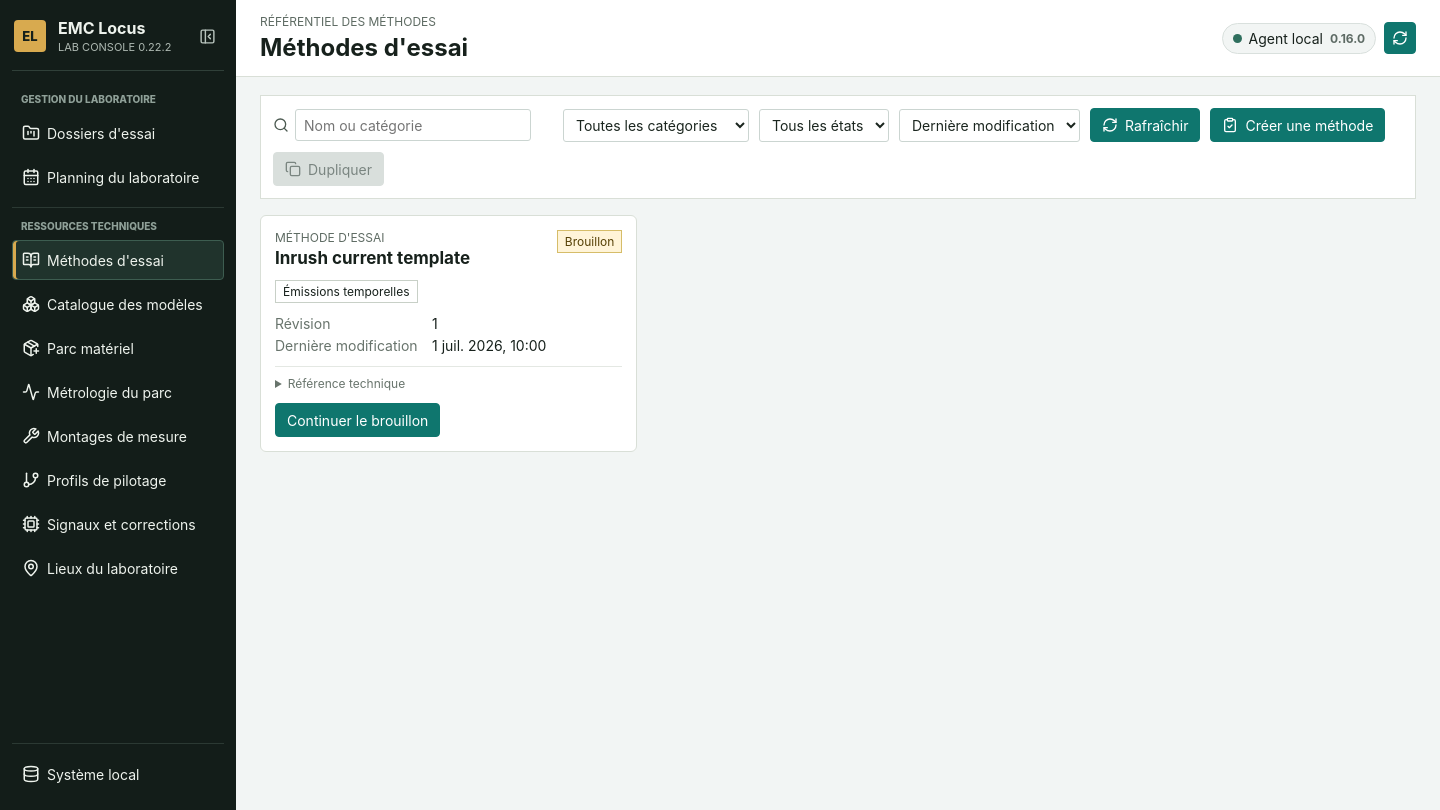
Scenario: LAB CONSOLE › explains a blocking historical location reservation with booking details
Click the button "Planning du laboratoire".
click(118, 177)  # box top-left (12, 157), bottom-right (224, 197)
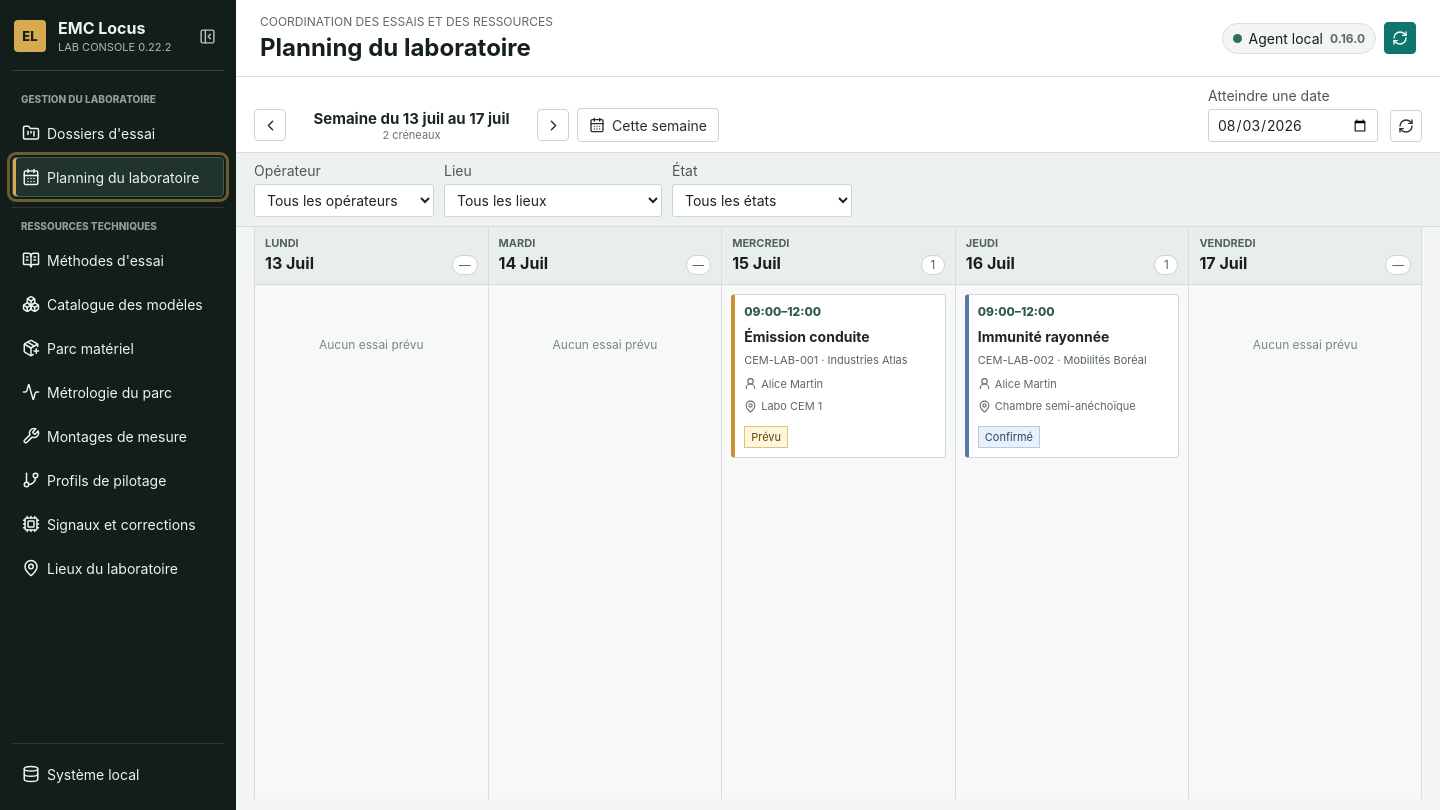
Click the button with aria-label "Ouvrir Émission conduite, dossier CEM-LAB-001".
click(838, 376)  # box top-left (731, 294), bottom-right (946, 458)
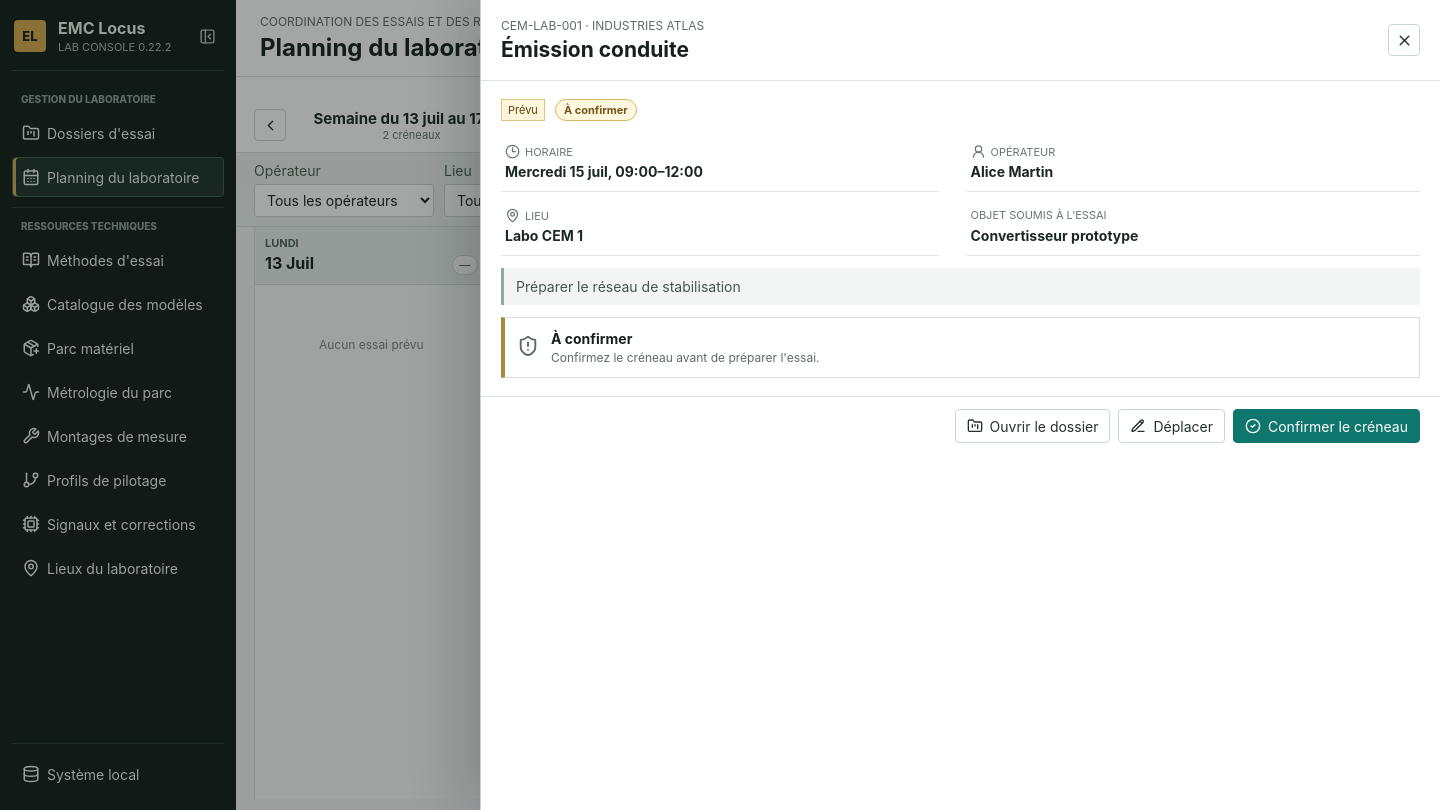
Click the button "Déplacer".
click(1172, 426)  # box top-left (1118, 409), bottom-right (1225, 443)
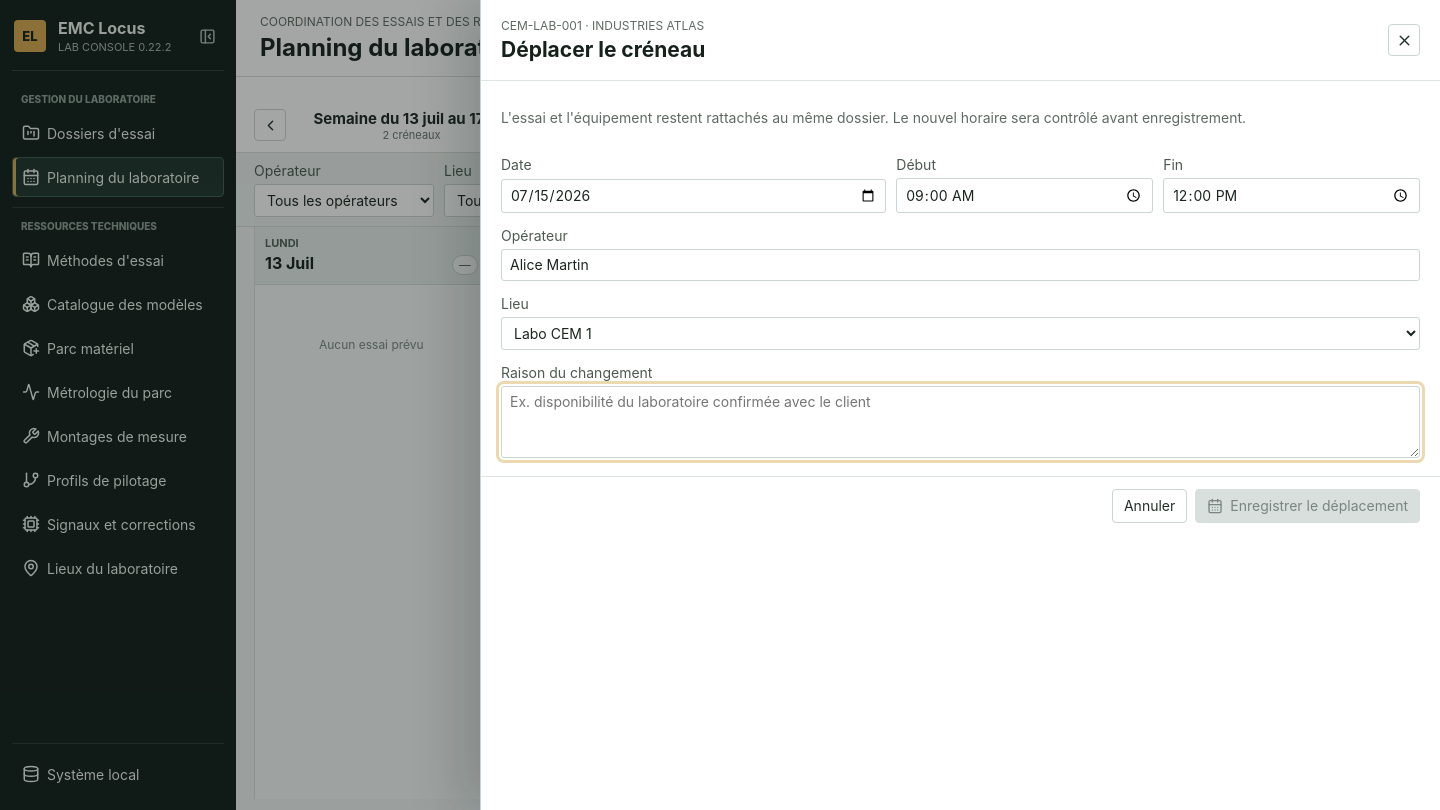
Type "Déplacement demandé" into the text box labelled "Raison du changement".
click(960, 422); type("Déplacement demandé")  # box top-left (501, 386), bottom-right (1420, 458)
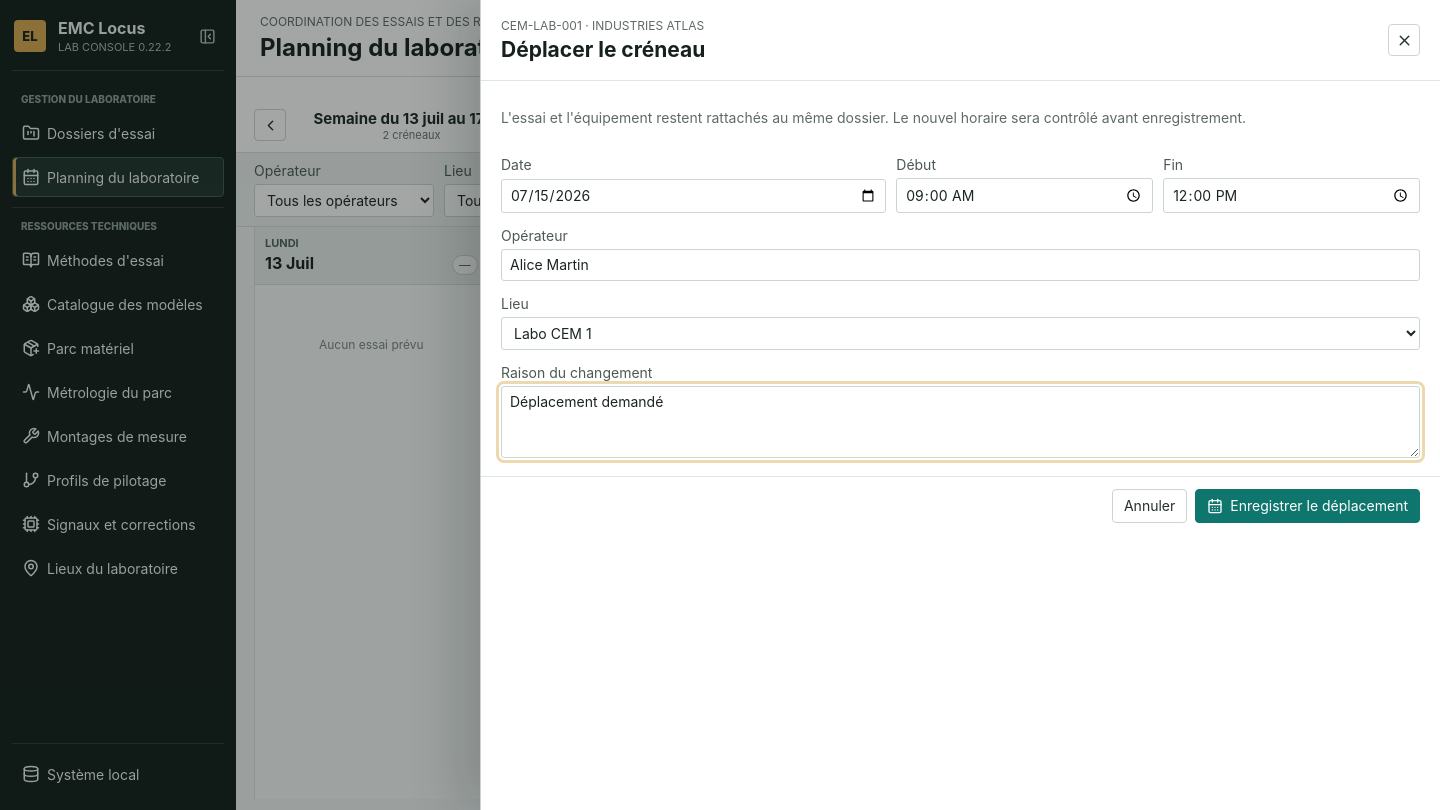
Click the button "Enregistrer le déplacement".
click(1308, 506)  # box top-left (1195, 489), bottom-right (1420, 523)
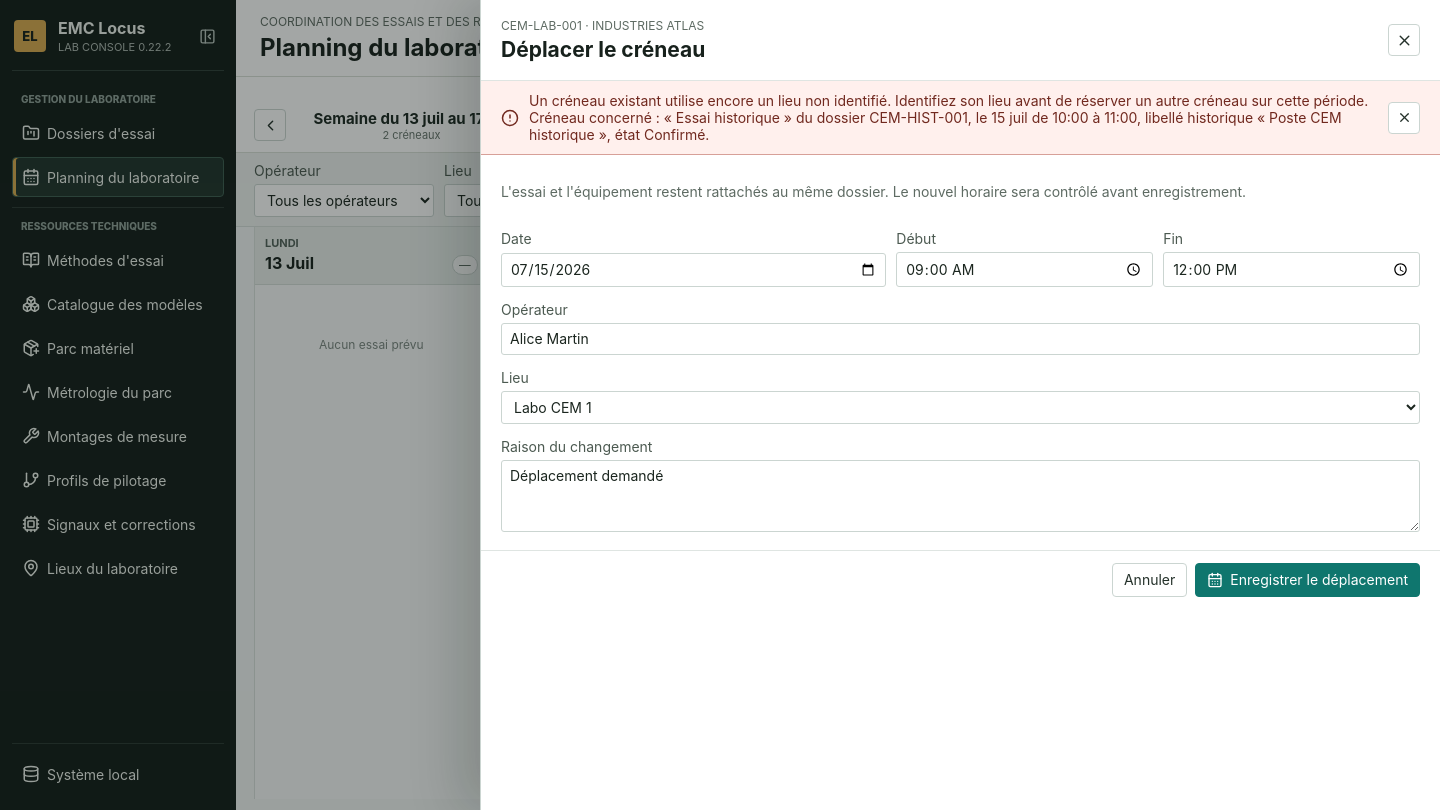
Expected: the message shows "Un créneau existant utilise encore un lieu non identifié. Identifiez son lieu avant de réserver un autre créneau sur cette période.", top-left (529, 92), bottom-right (1368, 143)
Expected: the message shows "« Essai historique » du dossier CEM-HIST-001", top-left (529, 92), bottom-right (1368, 143)
Expected: the message shows "Poste CEM historique", top-left (529, 92), bottom-right (1368, 143)
